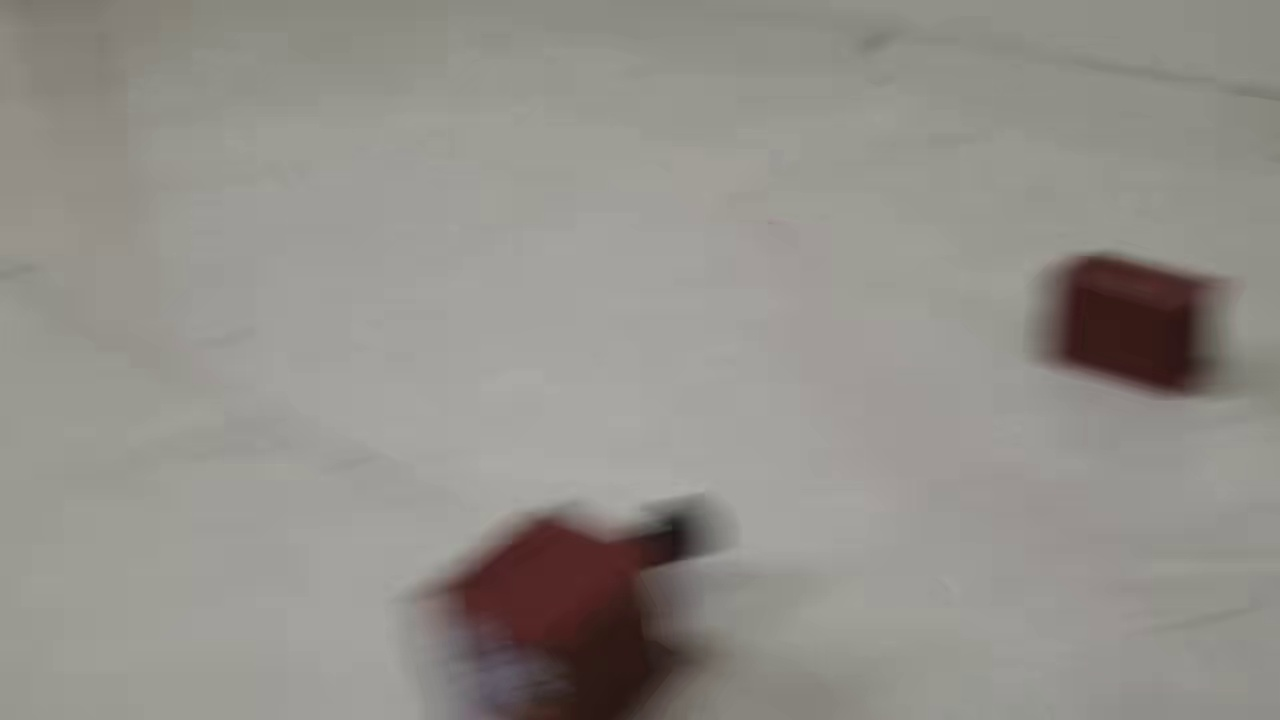box: (405, 482, 731, 720), (1038, 249, 1228, 396)
